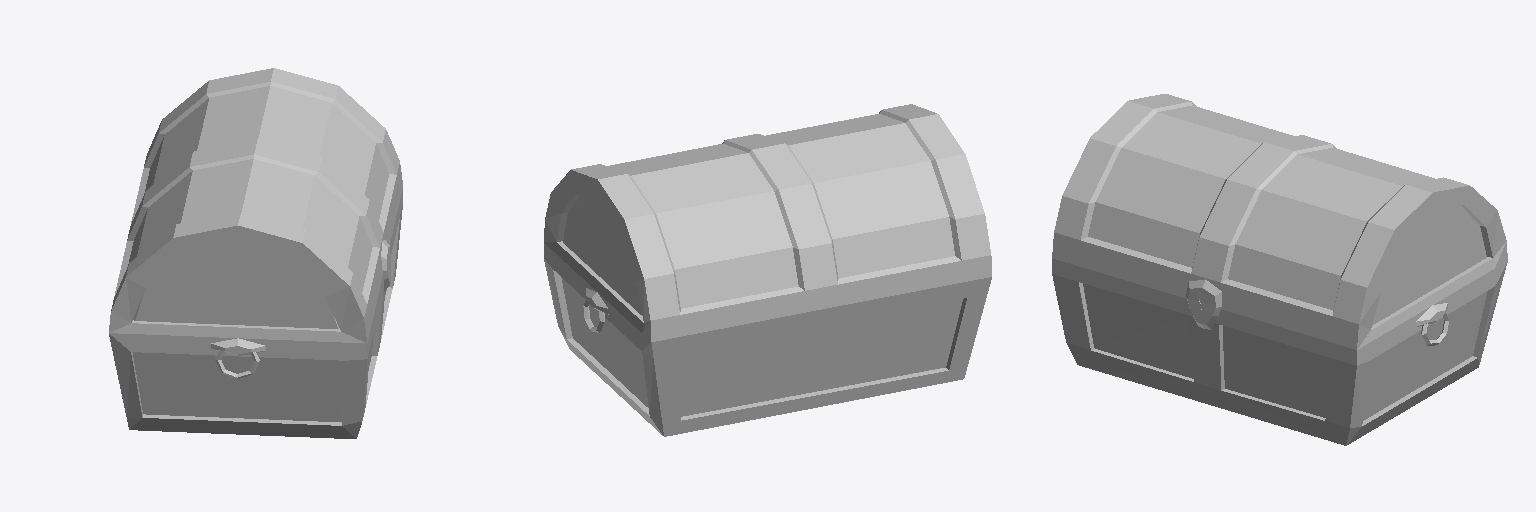
Rendered from treasure_chest_obj.obj.
The picture shows the model from 3 angles: view 1: azimuth 30°, elevation 25°; view 2: azimuth 150°, elevation 25°; view 3: azimuth 270°, elevation 25°; orthographic projection.
Parts seen in each view (by area): view 1: treasure_chest_Cylinder.001; view 2: treasure_chest_Cylinder.001; view 3: treasure_chest_Cylinder.001.
Boxes of the visible parts, x1,y1,x2,y2 form: treasure_chest_Cylinder.001: [109, 68, 402, 438]; treasure_chest_Cylinder.001: [544, 104, 991, 436]; treasure_chest_Cylinder.001: [1052, 94, 1507, 445].
Size of the model in its own units: 8.34 by 4.69 by 8.86.